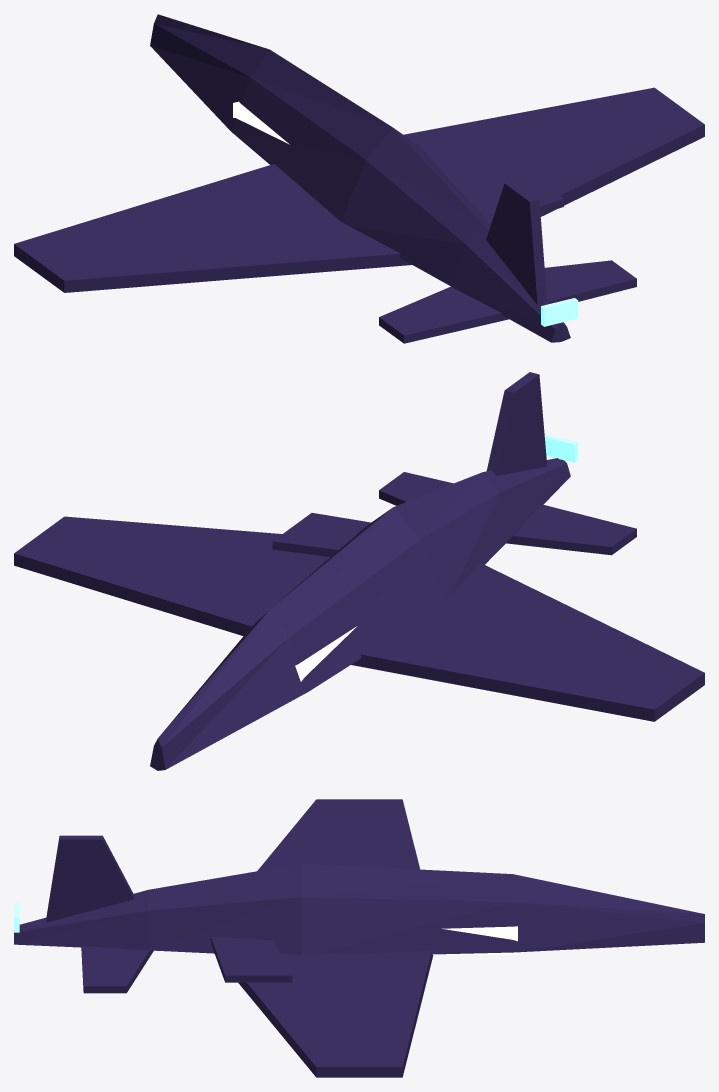
File: 01_sky_dart_interceptor.glb
3 views of the same model, one above another, from view 1: azimuth 30°, elevation 25°; view 2: azimuth 150°, elevation 25°; view 3: azimuth 270°, elevation 25° (orthographic). The views are drawn at different scales.
Parts seen in each view (by area): view 1: fuselage_0, wing_1, wing_2, fin_6, tailplane_4, tailplane_5, htail_left_3, engine_glow_8, cockpit_7; view 2: fuselage_0, wing_1, wing_2, fin_6, tailplane_4, htail_left_3, tailplane_5, engine_glow_8, cockpit_7; view 3: fuselage_0, wing_2, wing_1, fin_6, htail_left_3, tailplane_5, cockpit_7.
Part boxes in pixels (left/top/right/bottom): fuselage_0: left=150, top=14, right=570, bottom=342; wing_1: left=14, top=164, right=411, bottom=292; wing_2: left=403, top=87, right=704, bottom=216; fin_6: left=486, top=181, right=547, bottom=304; tailplane_4: left=379, top=286, right=508, bottom=343; tailplane_5: left=544, top=260, right=636, bottom=303; htail_left_3: left=463, top=170, right=563, bottom=224; engine_glow_8: left=541, top=298, right=578, bottom=326; cockpit_7: left=233, top=101, right=289, bottom=144; fuselage_0: left=150, top=458, right=570, bottom=770; wing_1: left=351, top=563, right=704, bottom=721; wing_2: left=14, top=516, right=329, bottom=635; fin_6: left=486, top=372, right=547, bottom=475; tailplane_4: left=506, top=504, right=636, bottom=555; htail_left_3: left=272, top=513, right=370, bottom=556; tailplane_5: left=379, top=472, right=453, bottom=505; engine_glow_8: left=544, top=434, right=578, bottom=462; cockpit_7: left=295, top=626, right=356, bottom=697; fuselage_0: left=14, top=863, right=704, bottom=954; wing_2: left=238, top=951, right=433, bottom=1077; wing_1: left=257, top=799, right=420, bottom=871; fin_6: left=46, top=835, right=133, bottom=922; htail_left_3: left=211, top=936, right=292, bottom=982; tailplane_5: left=81, top=946, right=153, bottom=993; cockpit_7: left=432, top=926, right=517, bottom=954.
Size of the model in its own units: 6.6 by 1.23 by 7.2.
